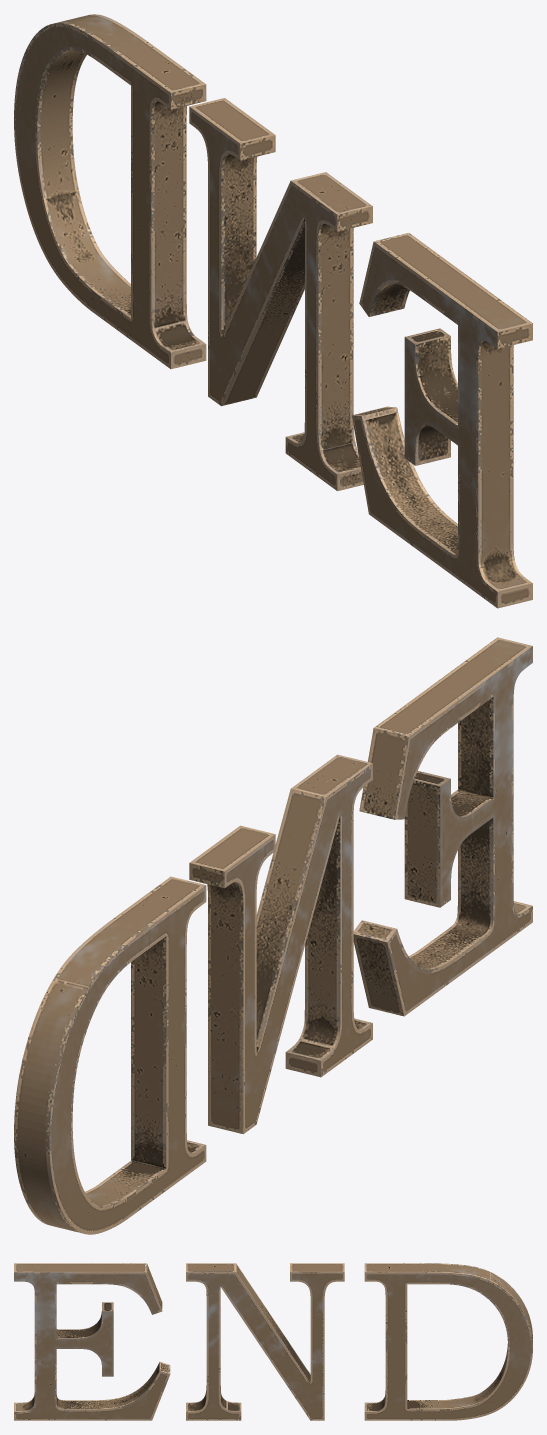
The model's file is interEnd.fbx.
3 renders of one model, top to bottom at view 1: azimuth 30°, elevation 25°; view 2: azimuth 150°, elevation 25°; view 3: azimuth 270°, elevation 25°, orthographic. The views are drawn at different scales.
Parts seen in each view (by area): view 1: textEnd1; view 2: textEnd1; view 3: textEnd1.
Boxes of the visible parts, bbox=[...] form: textEnd1: bbox=[14, 14, 532, 608]; textEnd1: bbox=[14, 637, 532, 1234]; textEnd1: bbox=[14, 1263, 532, 1420].
Bounding box in the file's own units: 1.12 × 8.37 × 26.56.
